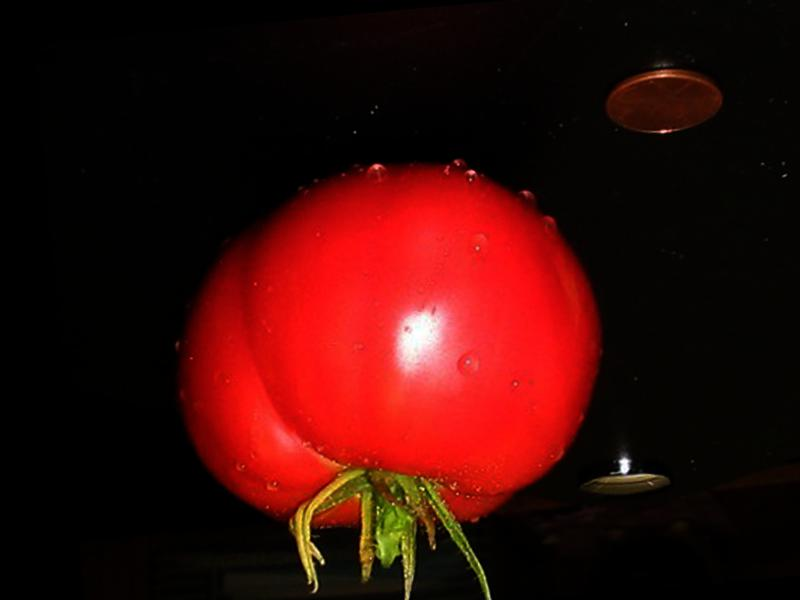Tomato: (154, 143, 617, 550)
